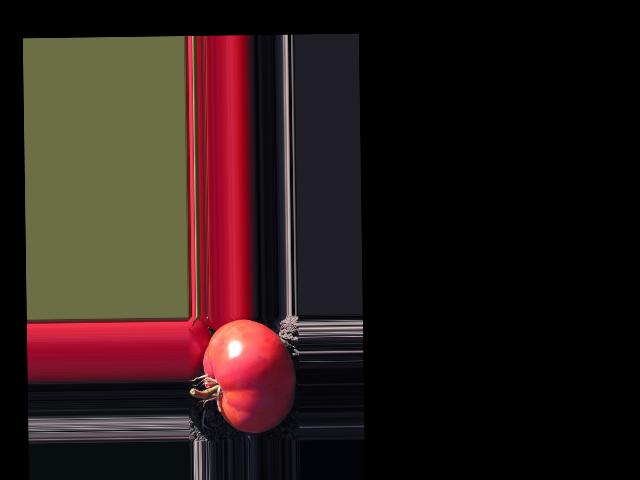tomato: (203, 319, 296, 434)
